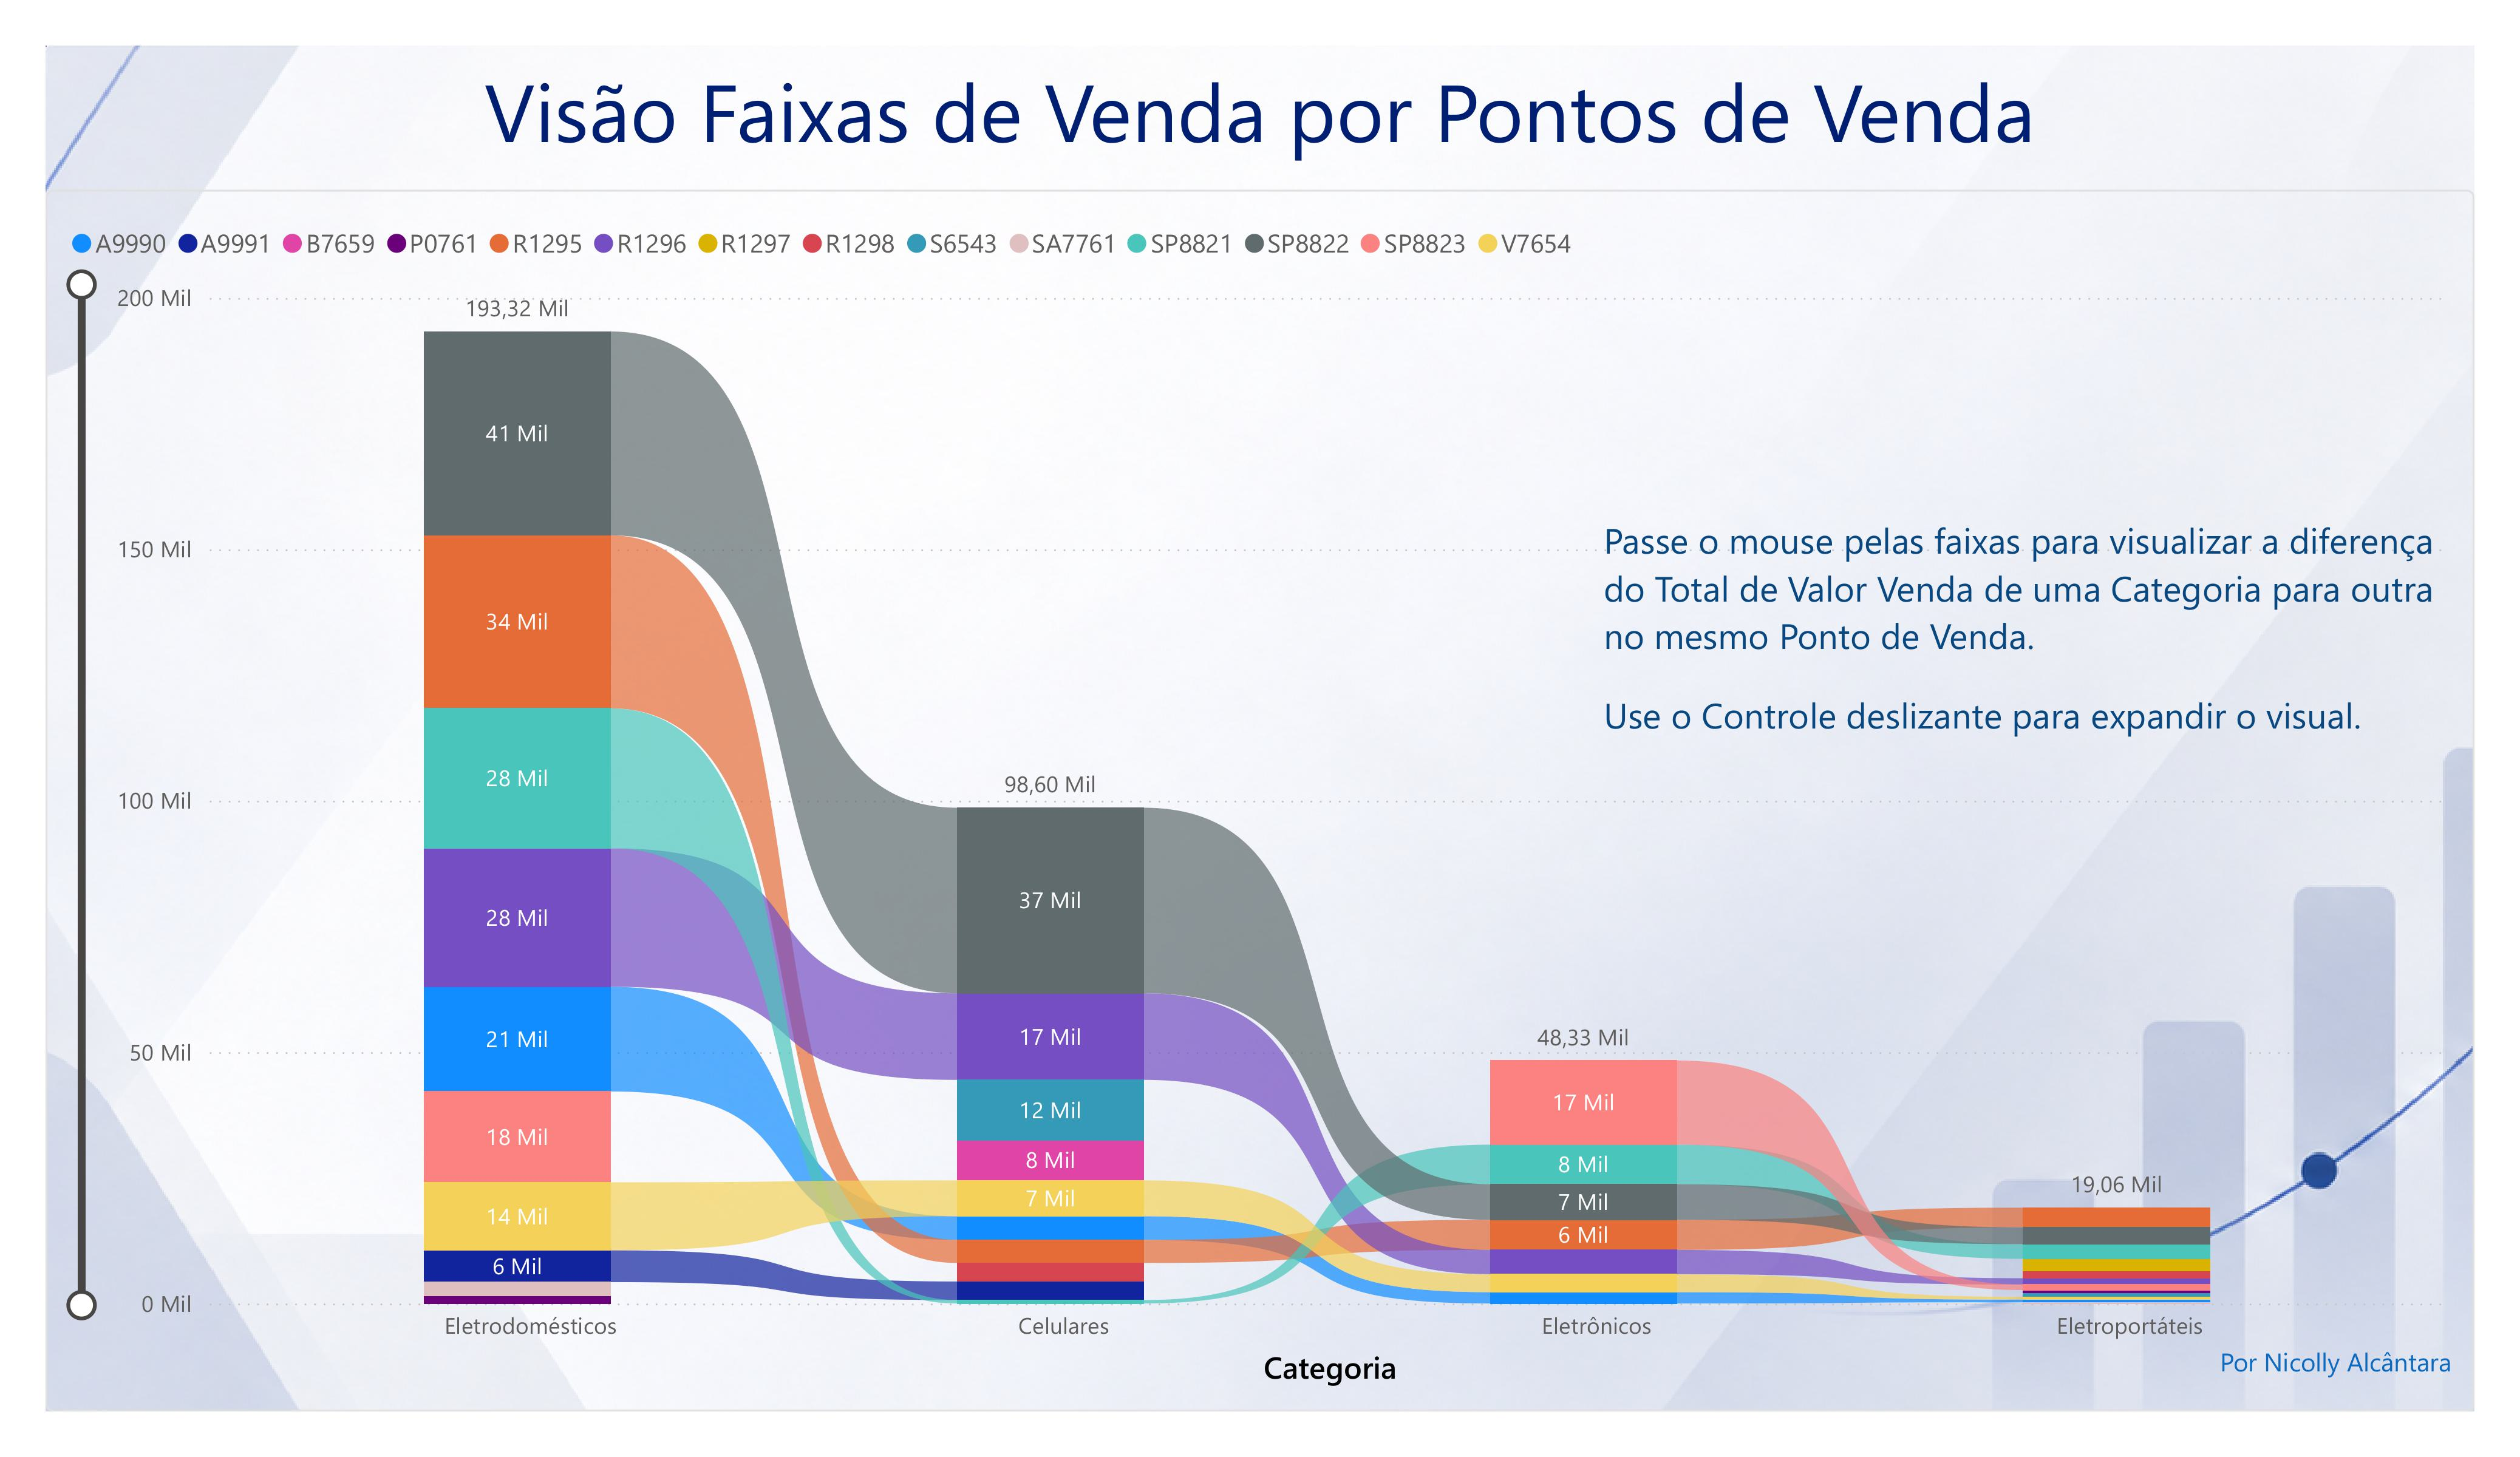

The page's visual inventory and layout, read from the dashboard file:
{"tool":"powerbi","page":{"name":"Faixa de Vendas por Categoria e Pontos de Venda","canvas":[1280,720],"ordinal":3},"visuals":[{"type":"ribbonChart","fields":{"Category":["Vendas.Categoria"],"Series":["Vendas.Loja"],"Y":["Sum(Vendas.ValorVenda)"]},"box":[0,75.7,1280,644.3],"z":0},{"type":"textbox","box":[816,242.9,455.2,133.7],"z":1000},{"type":"textbox","box":[0,0,1280,75.7],"z":2000},{"type":"textbox","box":[1141.4,680,138.6,40],"z":2001}]}

Visuals, with their boxes on the page's 1280x720 design canvas (x1, y1, x2, y2). These are canvas units, not pixel positions in the 2520x1457 screenshot, which may show the page scaled, cropped or inside an application window:
ribbonChart - Vendas.Categoria x Vendas.Loja: {"x1": 0, "y1": 76, "x2": 1280, "y2": 720}
textbox: {"x1": 816, "y1": 243, "x2": 1271, "y2": 377}
textbox: {"x1": 0, "y1": 0, "x2": 1280, "y2": 76}
textbox: {"x1": 1141, "y1": 680, "x2": 1280, "y2": 720}
